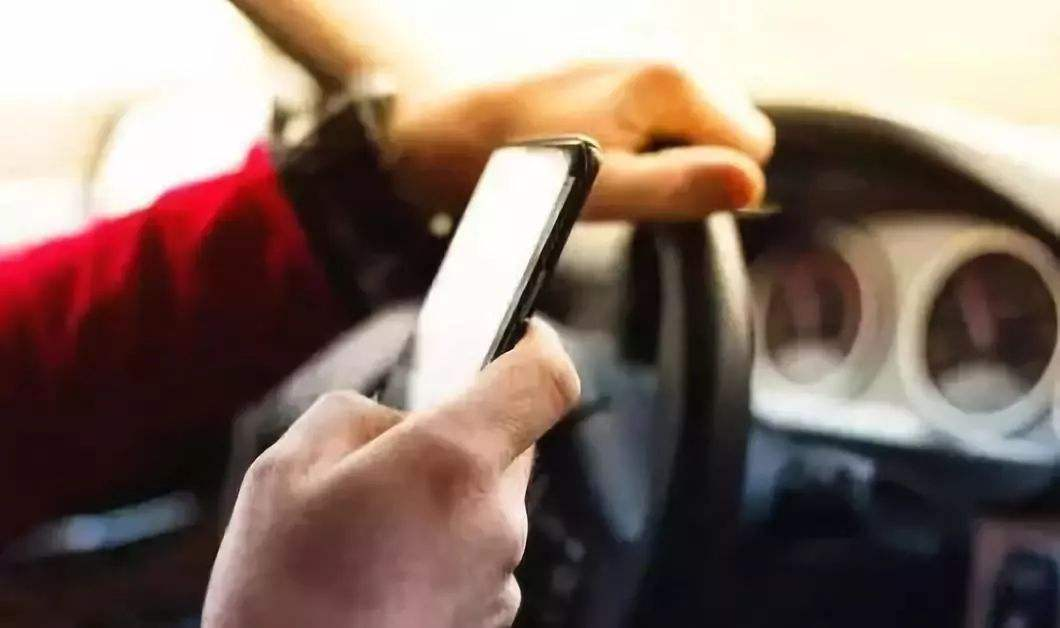reading: (179, 133, 603, 625)
